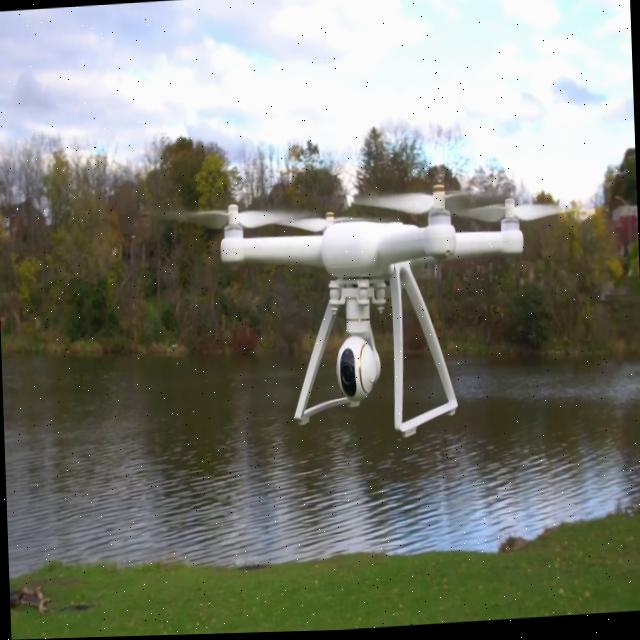drone: (172, 146, 590, 458)
